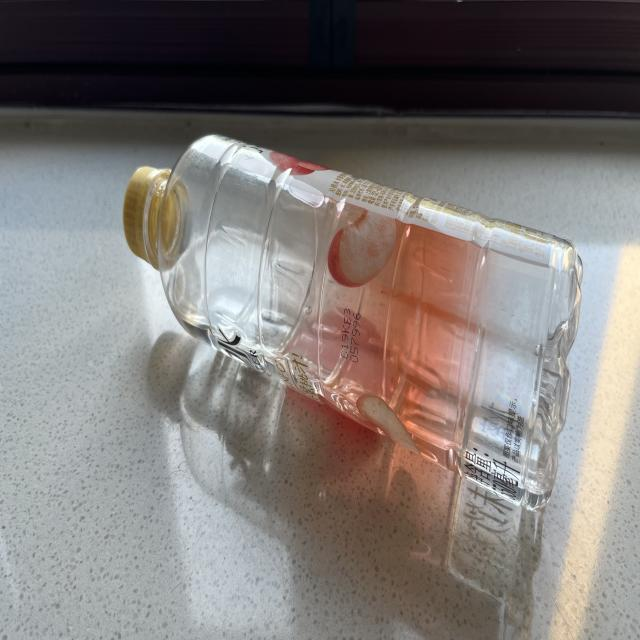medium: (123, 135, 582, 508)
